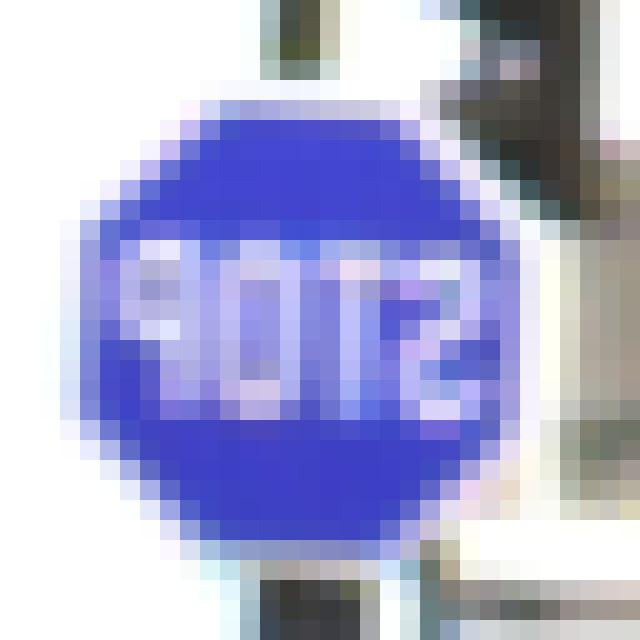STOP: (50, 86, 544, 575)
